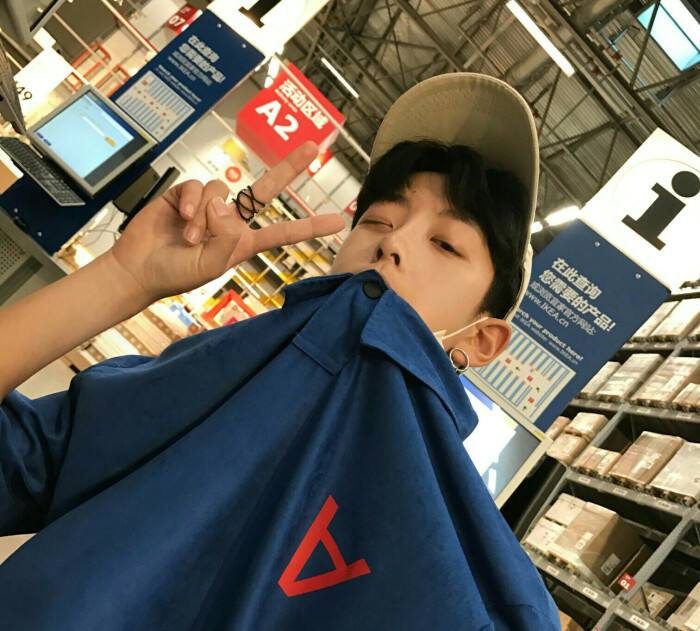person: (225, 106, 521, 624)
